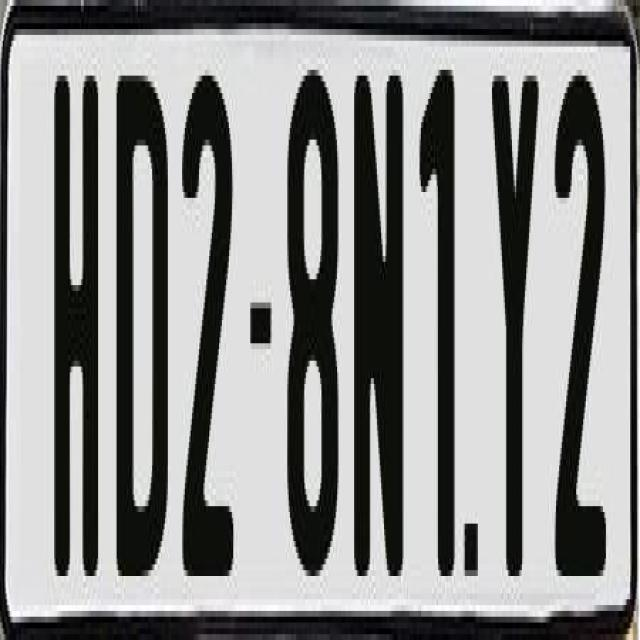1: (416, 70, 454, 576)
2: (552, 70, 610, 600), (180, 70, 240, 582)
8: (284, 70, 338, 606)
D: (114, 58, 174, 559)
H: (51, 64, 97, 594)
N: (352, 58, 399, 576)
Y: (492, 76, 543, 576)
